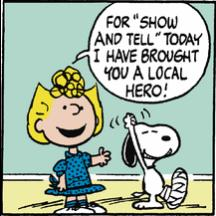snoopy: (120, 111, 190, 209)
